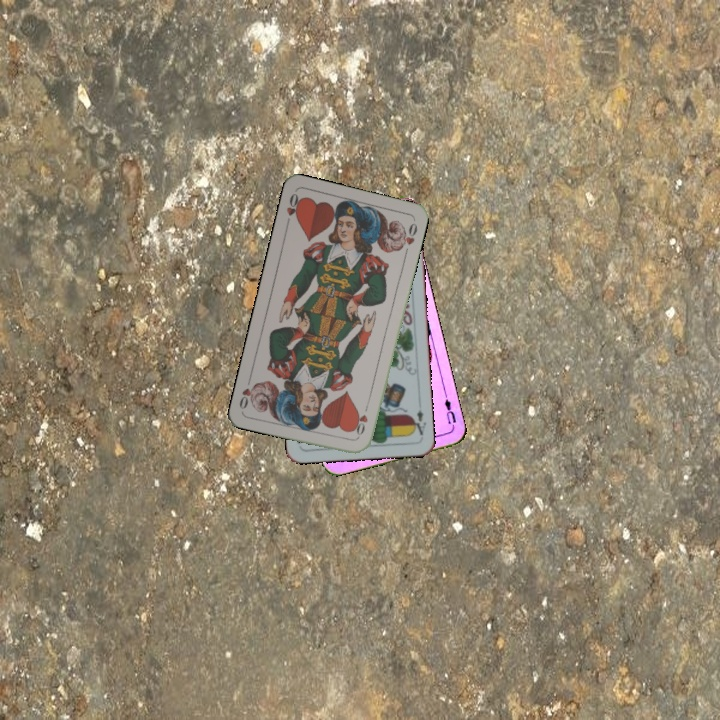EA: (408, 405, 429, 437)
EU: (440, 391, 459, 431)
HO: (282, 189, 304, 229), (352, 400, 371, 440)
